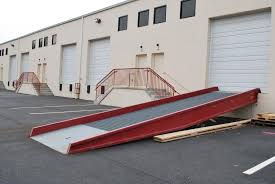Yard Ramp: (29, 86, 257, 158)
